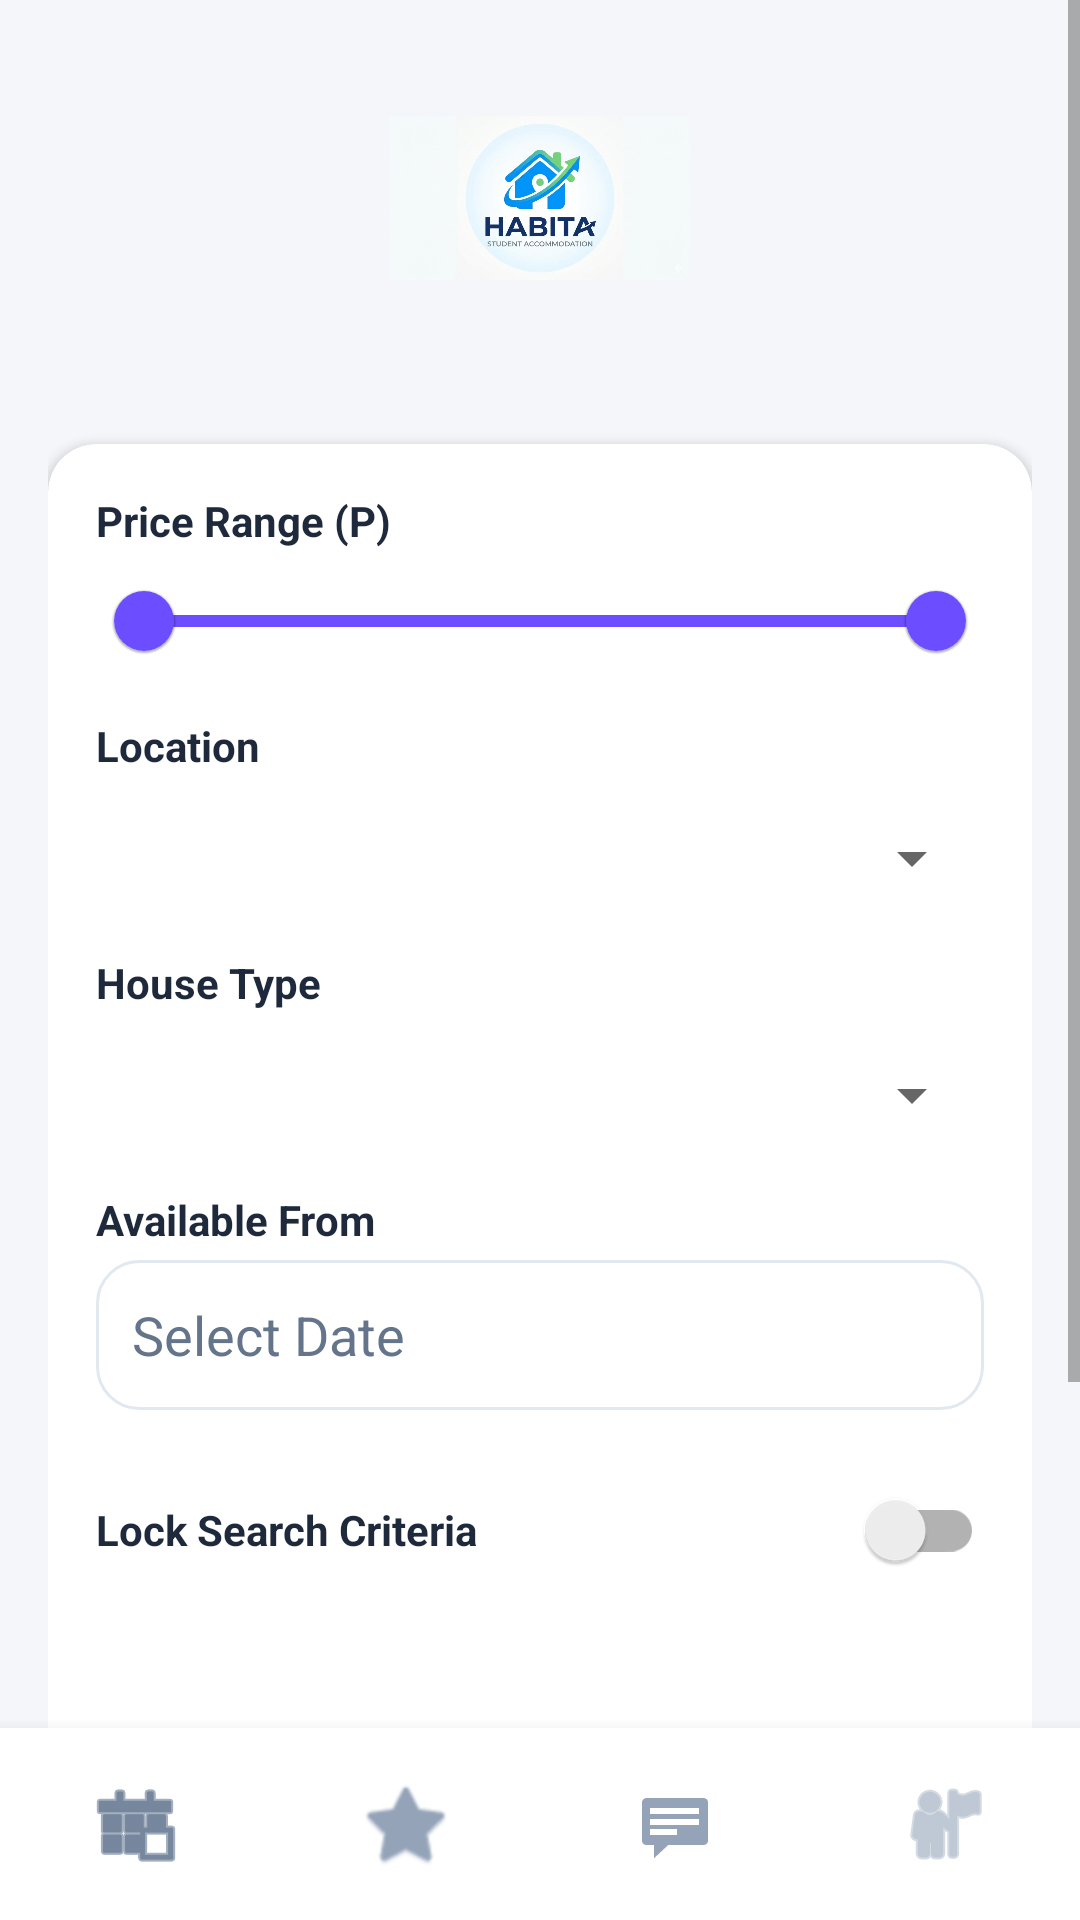

Icons on this 1080px x 1920px Android screen, each with the point to tap as [x,y]:
Chat: [675,1828]
Profile: [946,1824]
Saved: [406,1825]
